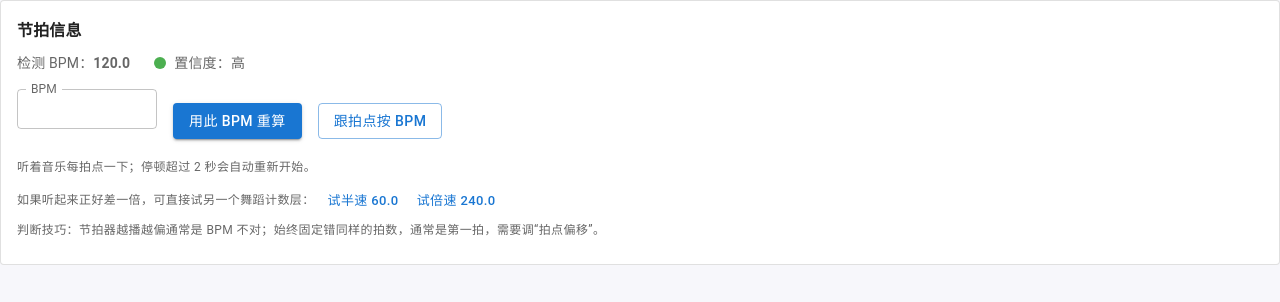
BeatInfoCard › disables the button and shows the error for an empty value
Clear the number field labelled "BPM": (87, 109) x1=17 y1=89 x2=157 y2=129
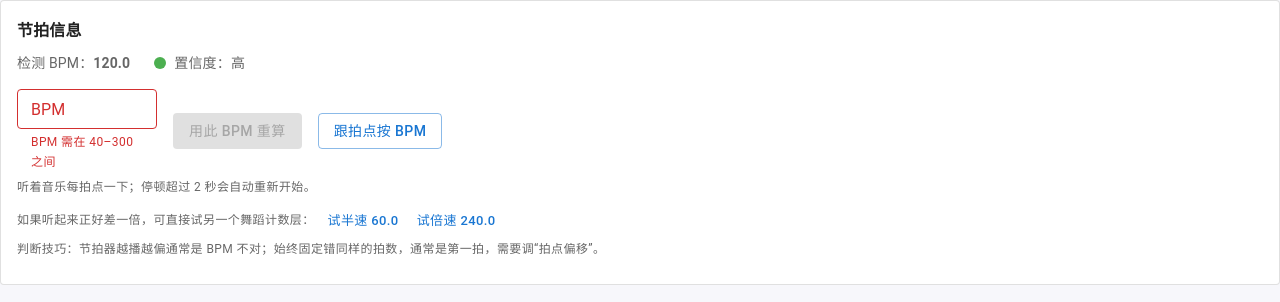
Check: the button "用此 BPM 重算" is disabled, box x1=173 y1=113 x2=302 y2=149
Check: the text "BPM 需在 40–300 之间" is shown, box x1=31 y1=133 x2=143 y2=173
